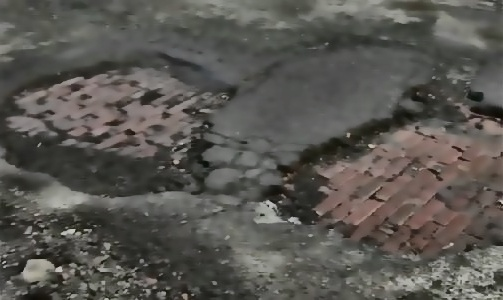pothole: (255, 77, 503, 255), (1, 56, 240, 197)
